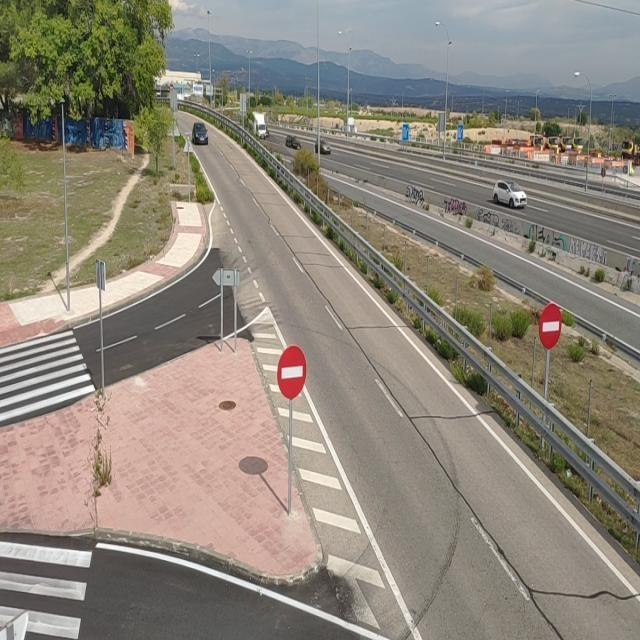Car: (473, 166, 544, 222), (188, 118, 216, 147), (283, 133, 310, 156), (312, 138, 338, 160)
Van: (250, 103, 274, 138)
